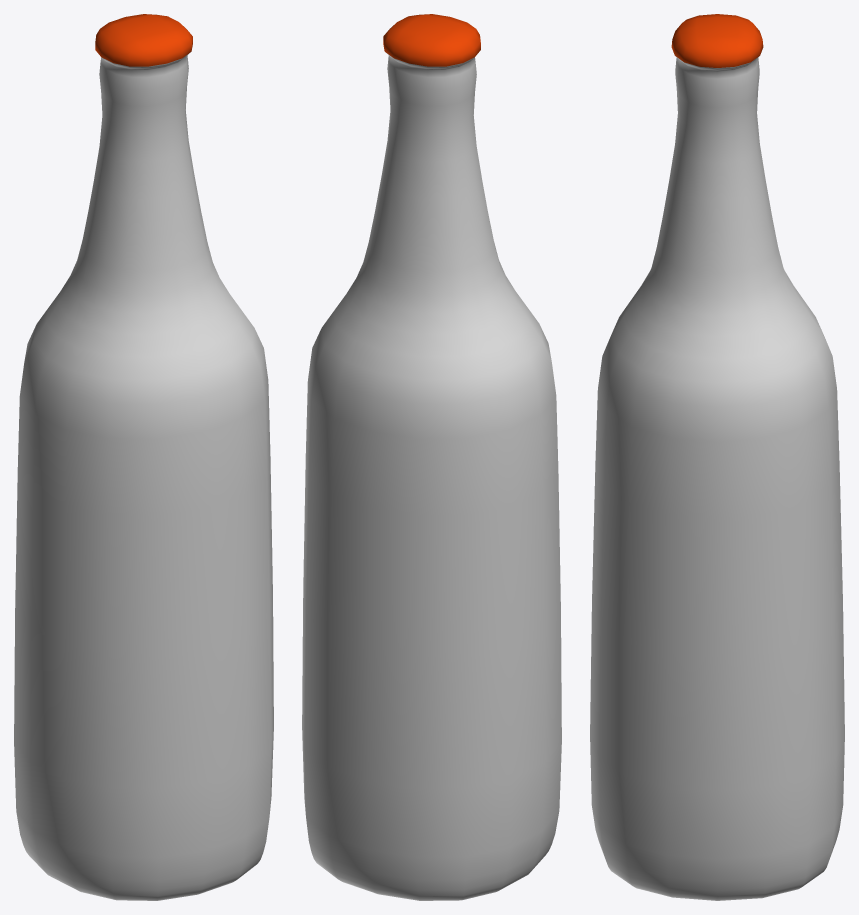
The model's file is newbottle.fbx.
3 views of the same model, side by side, from view 1: azimuth 30°, elevation 25°; view 2: azimuth 150°, elevation 25°; view 3: azimuth 270°, elevation 25° (orthographic).
Visible parts, largest first — view 1: Bottle; view 2: Bottle; view 3: Bottle.
Part boxes in pixels (x1,y1,x2,y2): Bottle: [14, 14, 273, 900]; Bottle: [302, 14, 561, 900]; Bottle: [590, 14, 844, 900].
Bounding box in the file's own units: 136 × 483 × 133.
